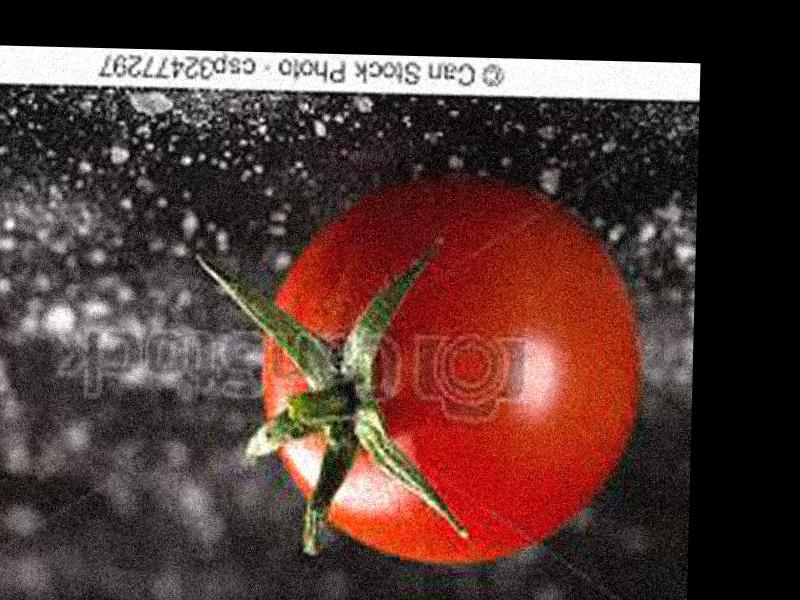Tomato: (257, 175, 645, 569)
